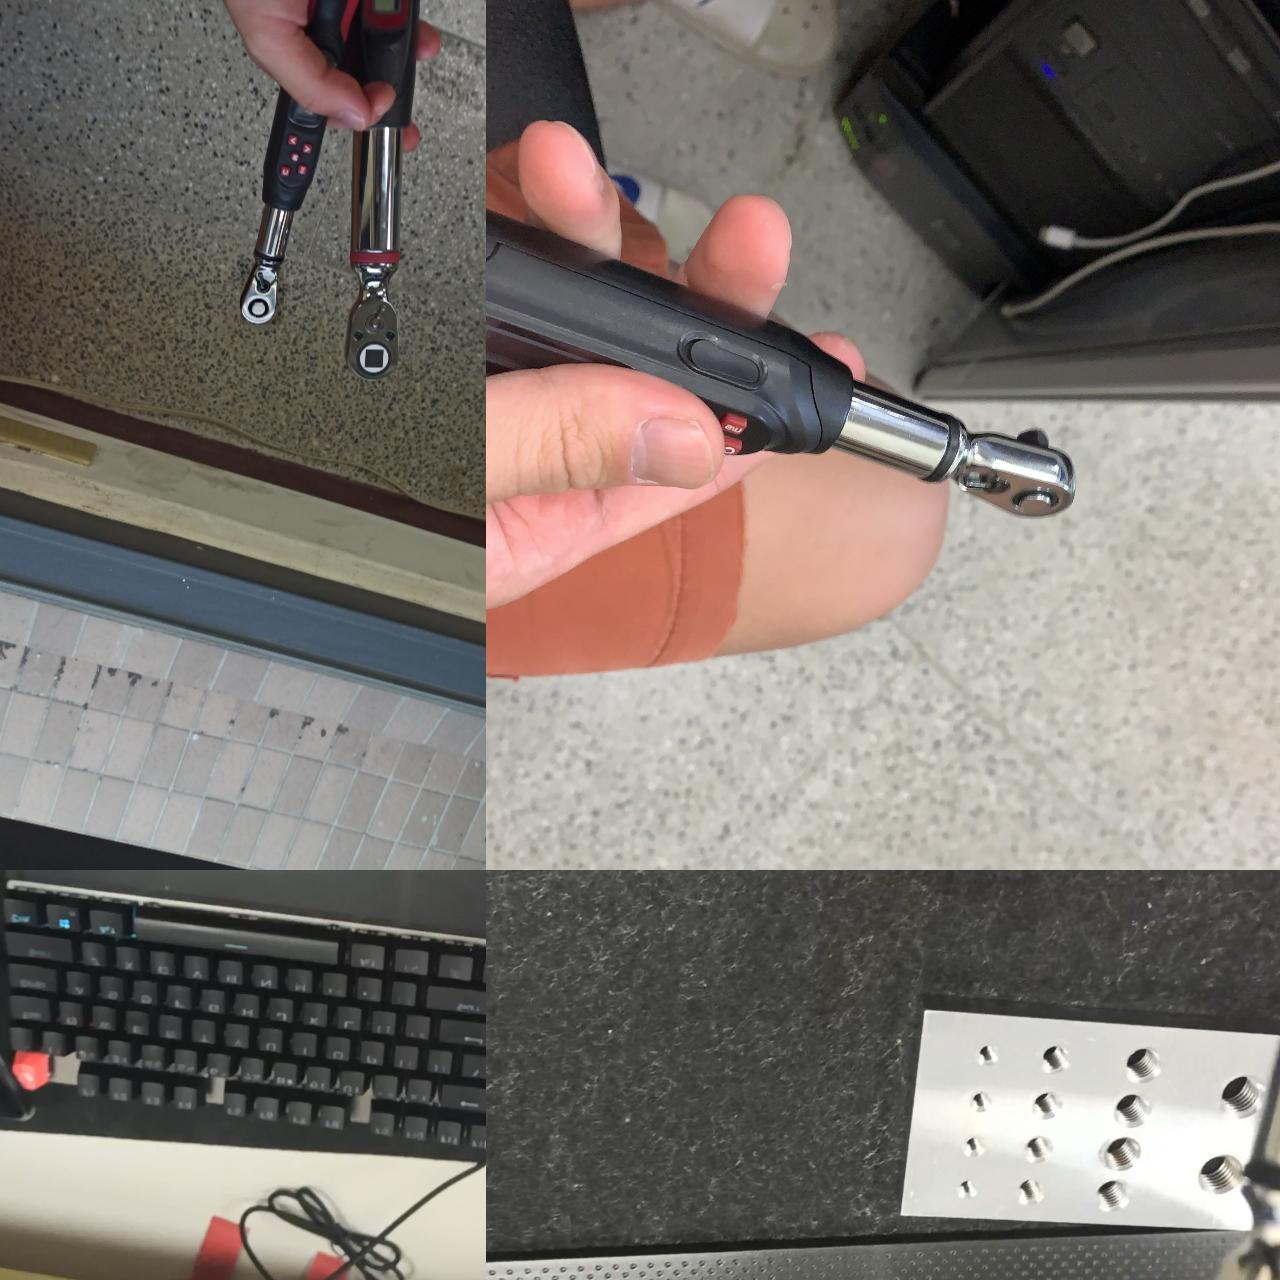Tool: (949, 420, 1077, 530), (347, 263, 404, 379), (241, 260, 280, 327)
hole: (1221, 1070, 1266, 1121), (1200, 1150, 1245, 1199), (1096, 1131, 1143, 1175), (1112, 1088, 1155, 1130), (1125, 1044, 1165, 1085), (1091, 1180, 1131, 1214), (1040, 1041, 1068, 1078), (1024, 1135, 1055, 1169), (1014, 1177, 1043, 1211), (1034, 1090, 1064, 1122), (974, 1041, 1001, 1070), (956, 1135, 983, 1160), (969, 1088, 992, 1115), (955, 1179, 975, 1200)
